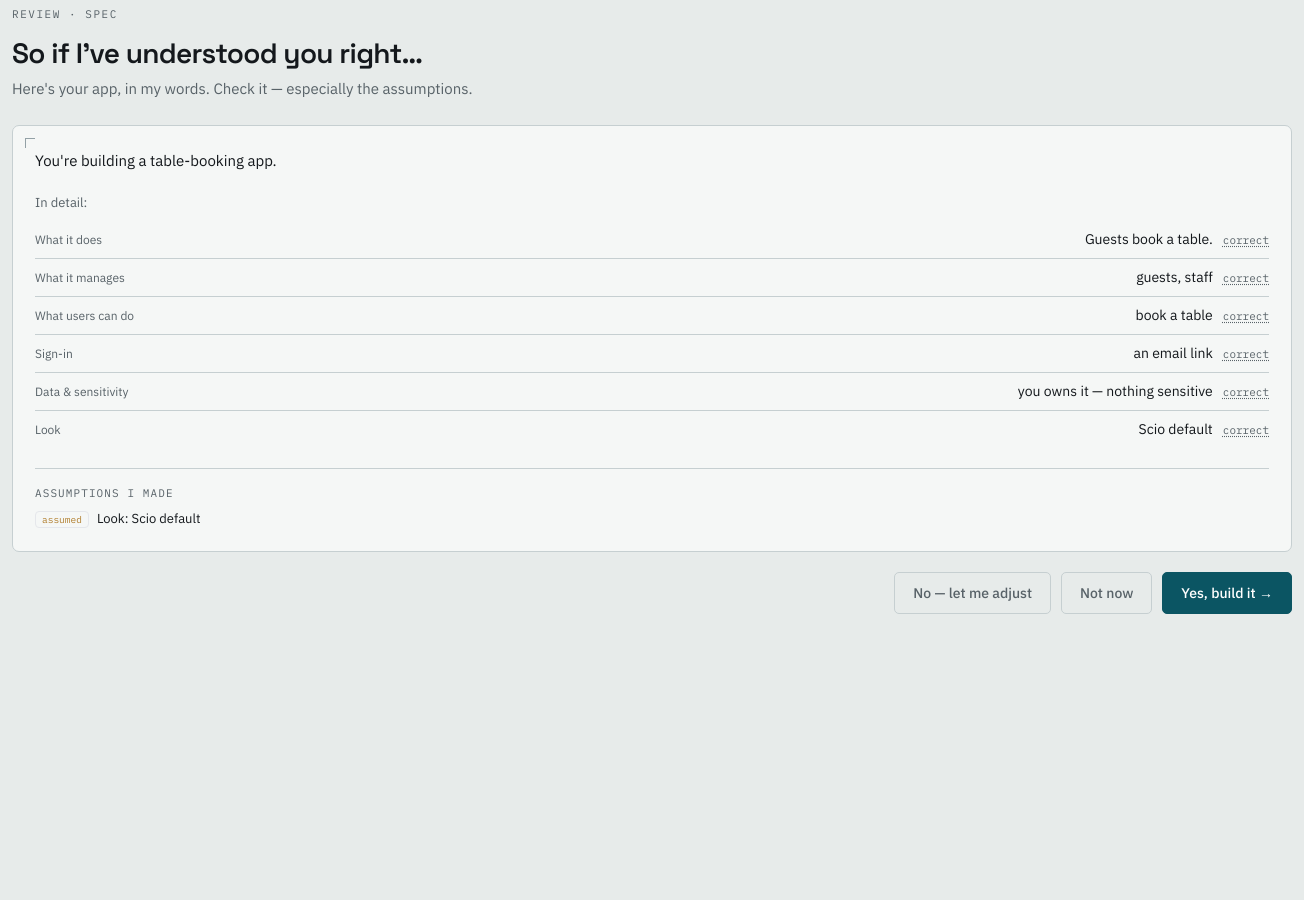
Scenario: A correction that opens new work › answering it inline opens the gate again
The image size is (1304, 900).
Click the button "correct" next to "guests, staff".
click(1246, 278)  # box [1223,270,1269,286]
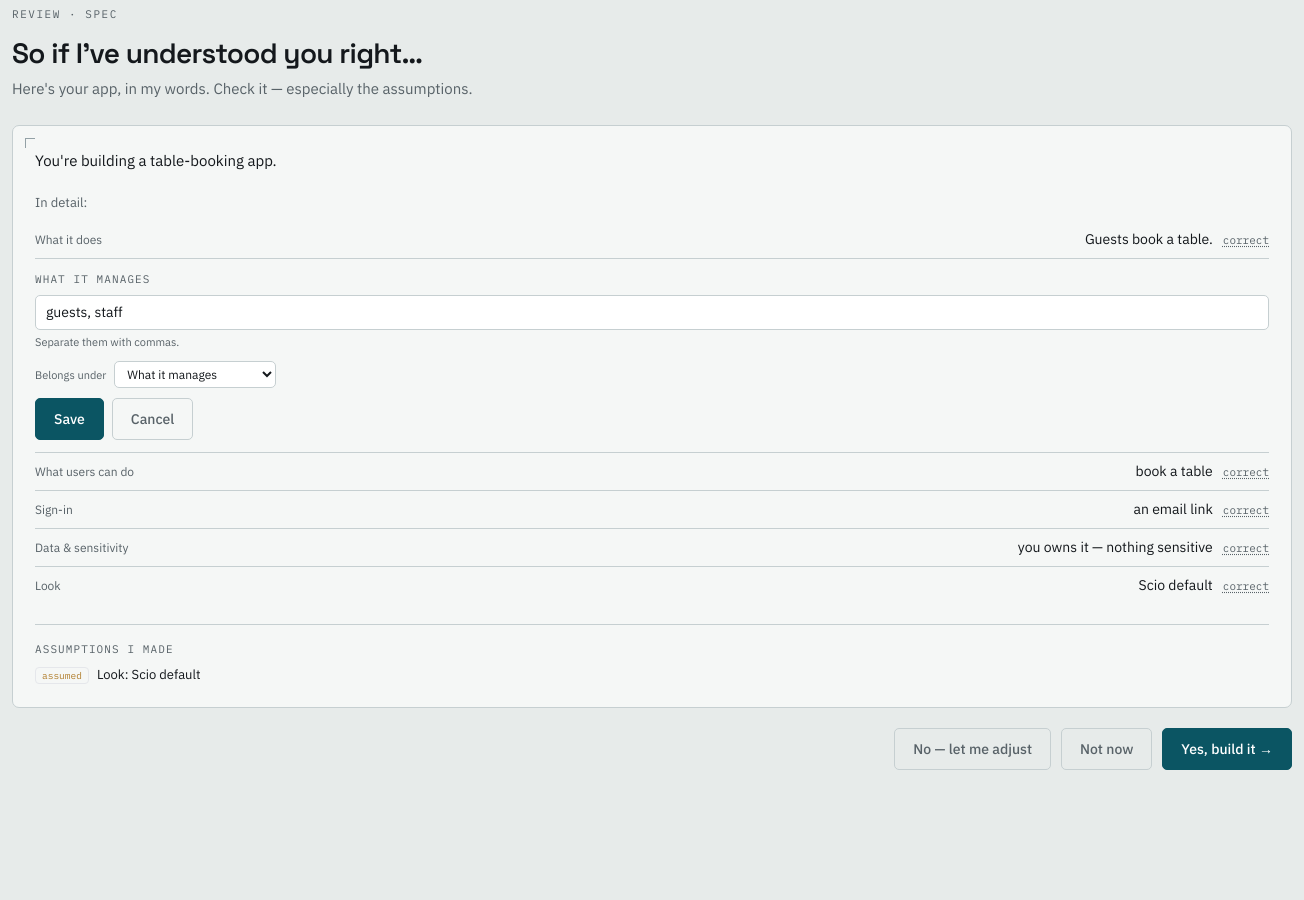
Select "Who it's for" in the dropdown labelled "Belongs under" at (195, 374), box [114,360,276,388]
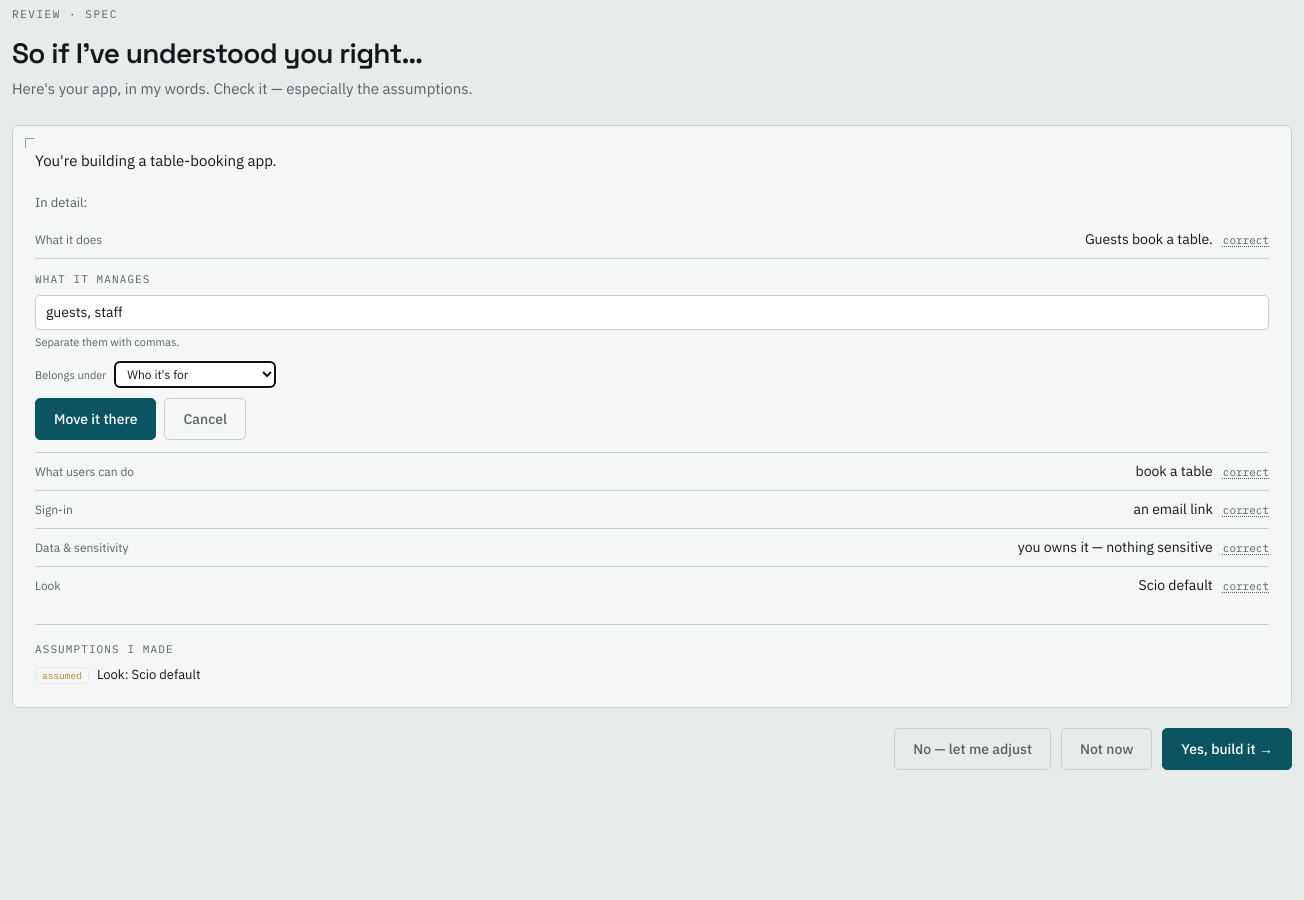
Click the button "Move it there".
click(96, 418)  # box [35,398,156,440]
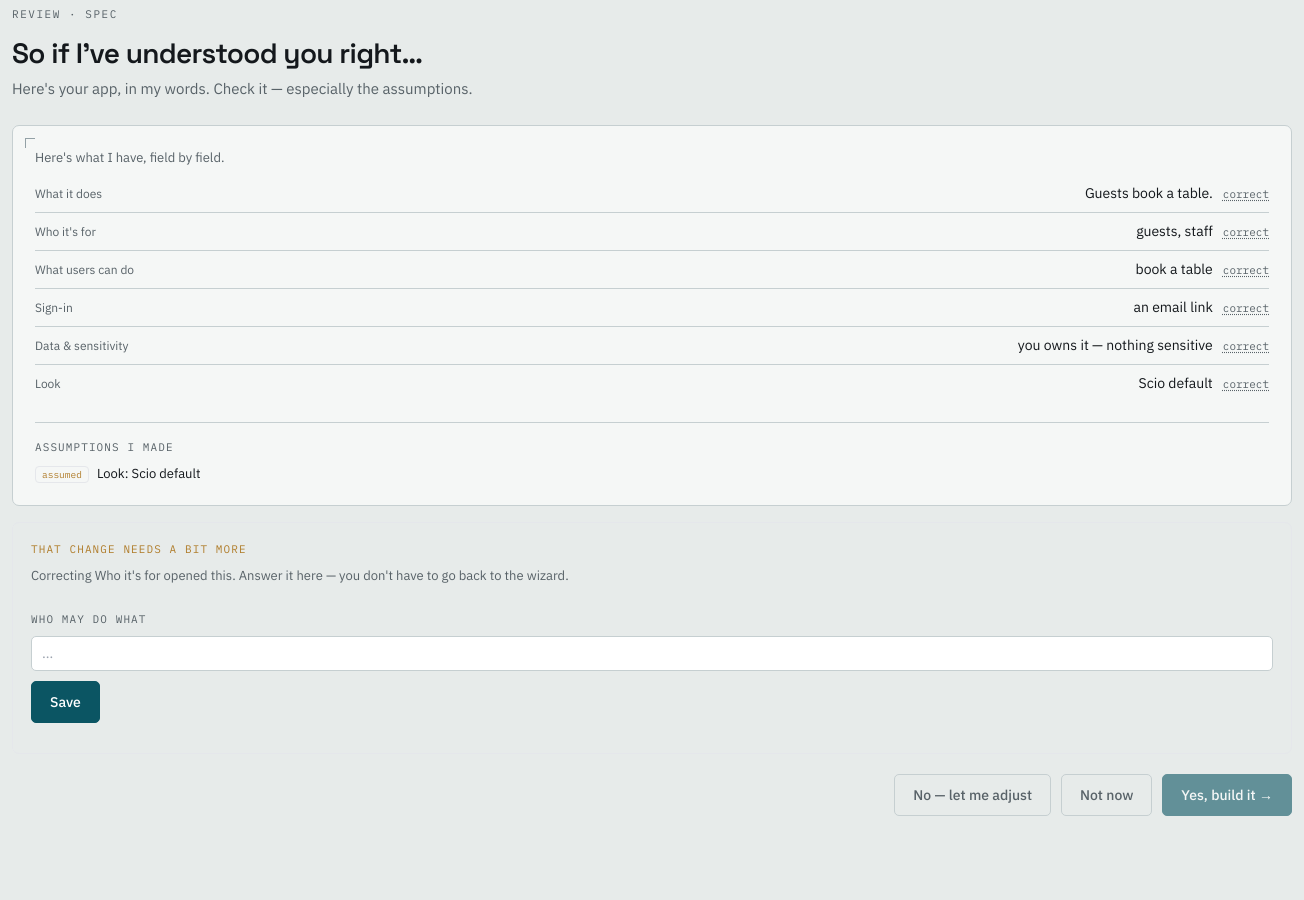
Type "Staff see today's list." into the field named "Who may do what".
click(652, 653); type("Staff see today's list.")  # box [31,636,1273,670]
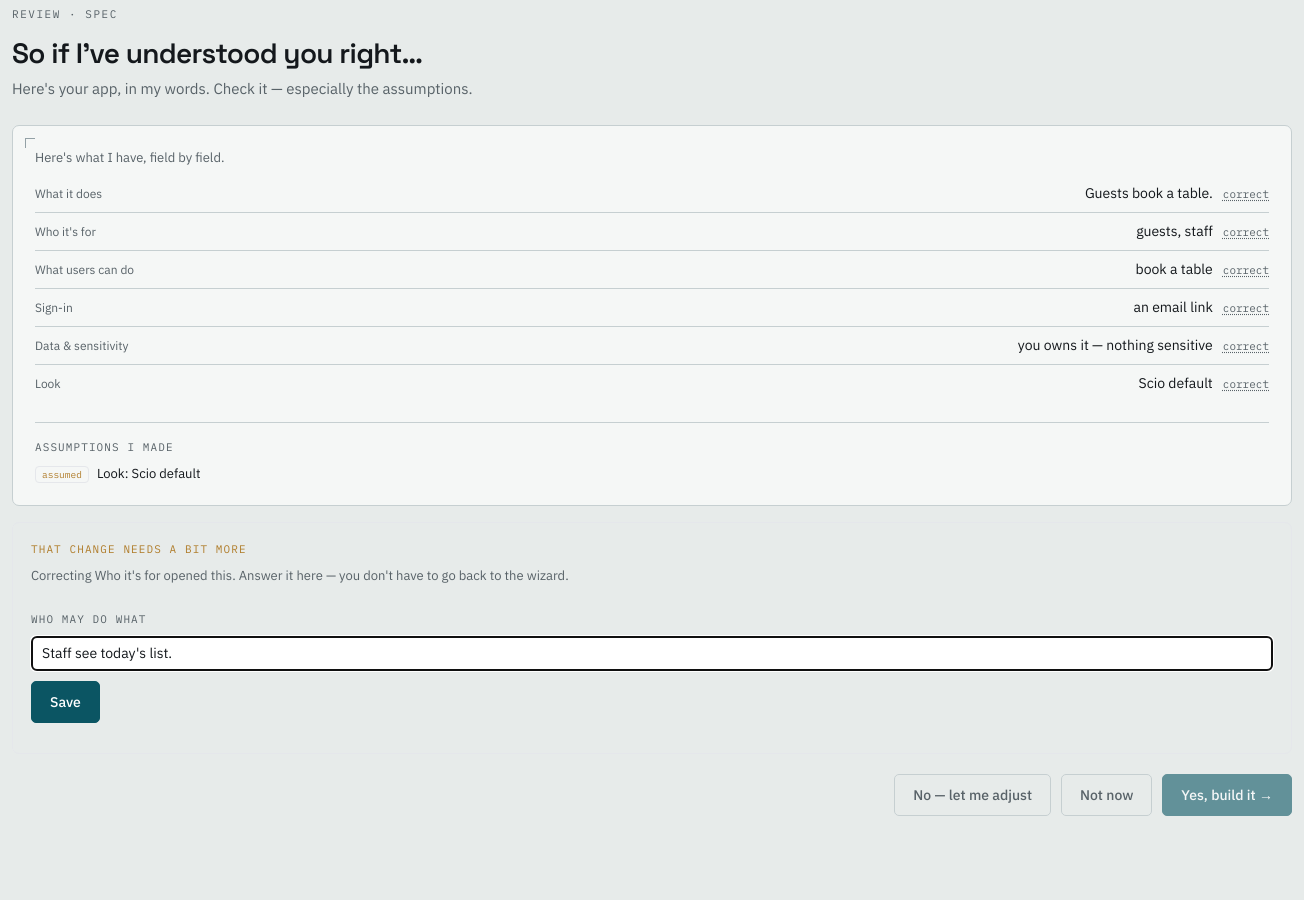
Click the button "Save".
click(65, 702)  # box [31,680,100,722]
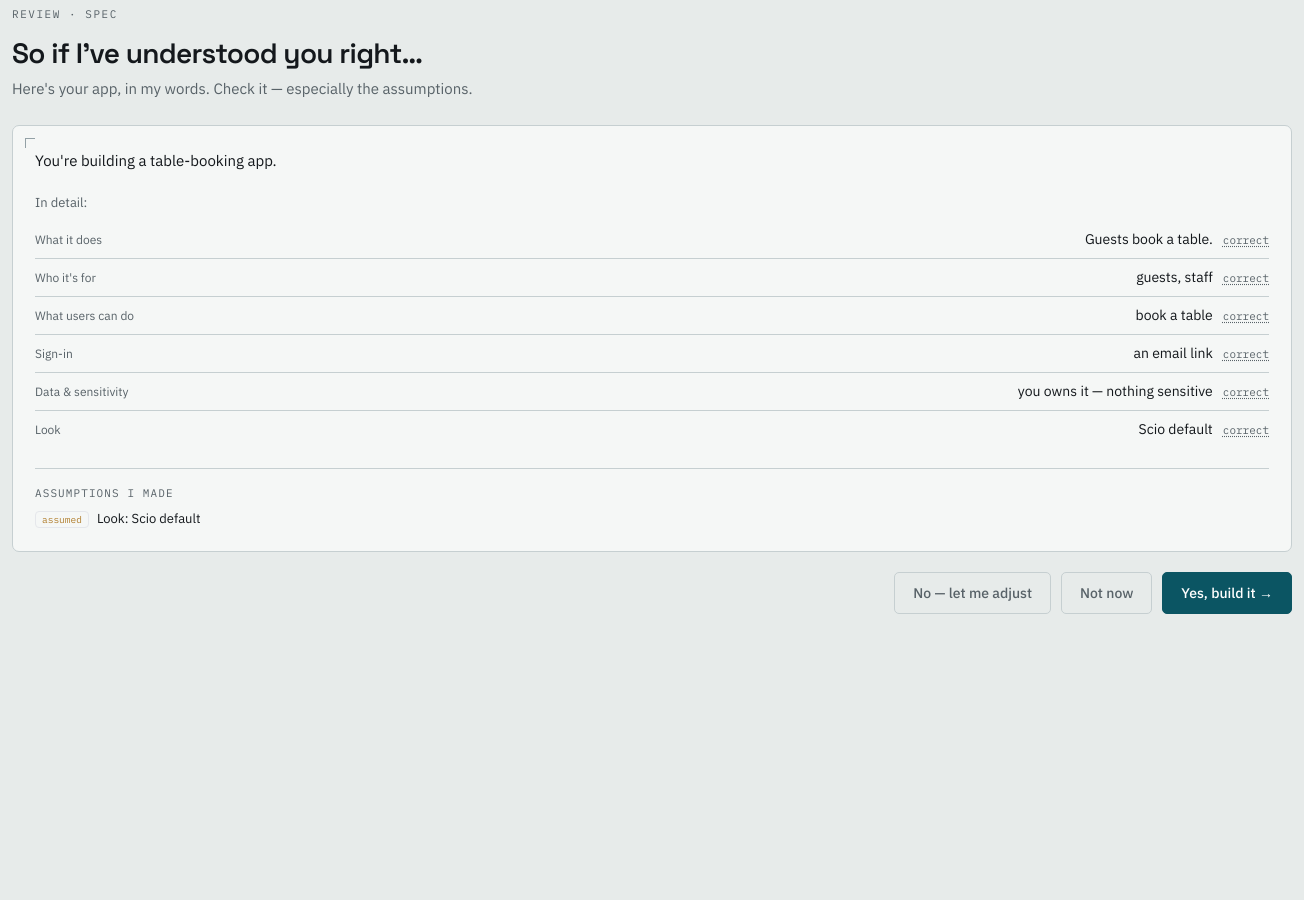
Expected: the element with test id "still-needed" is gone
Expected: the button "Yes, build it →" is enabled, [1162,572,1292,614]
